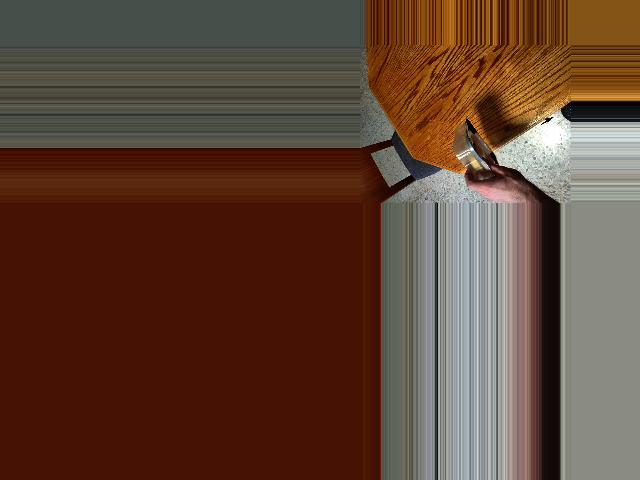cheese: (445, 124, 520, 187)
